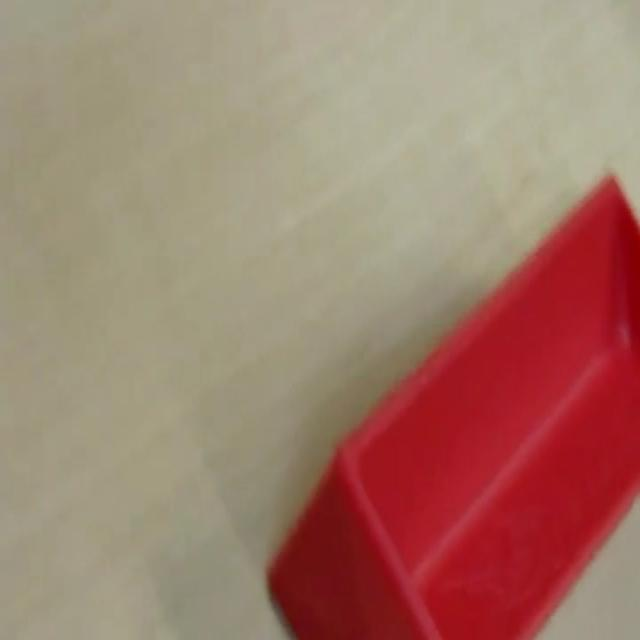red_block: (265, 170, 638, 638)
